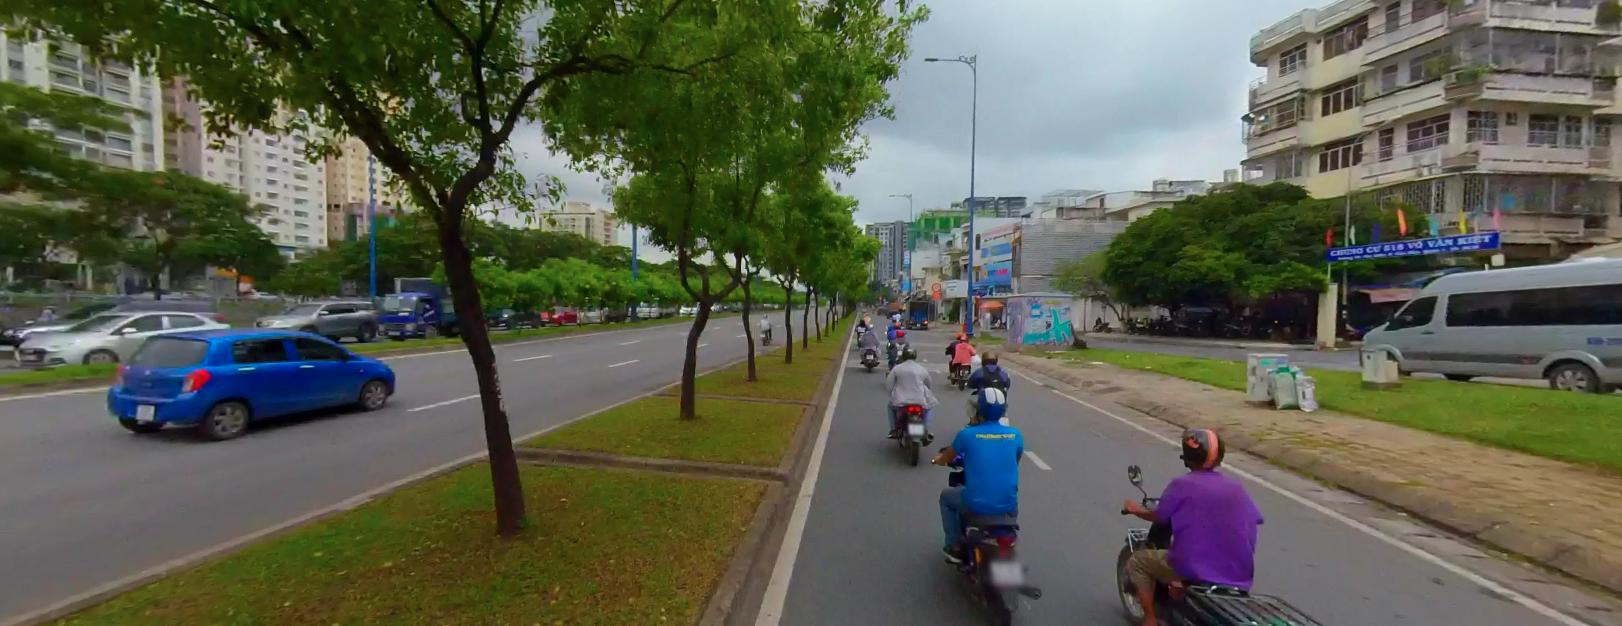Cam con lai: (932, 281, 941, 290)
